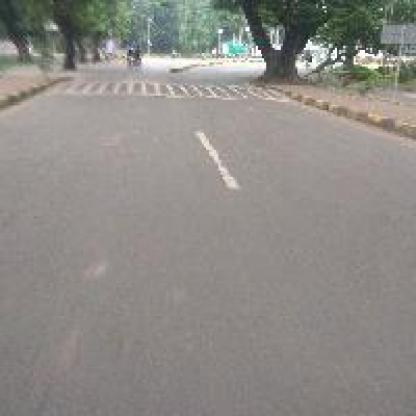Speed Bump: (58, 79, 264, 94)
